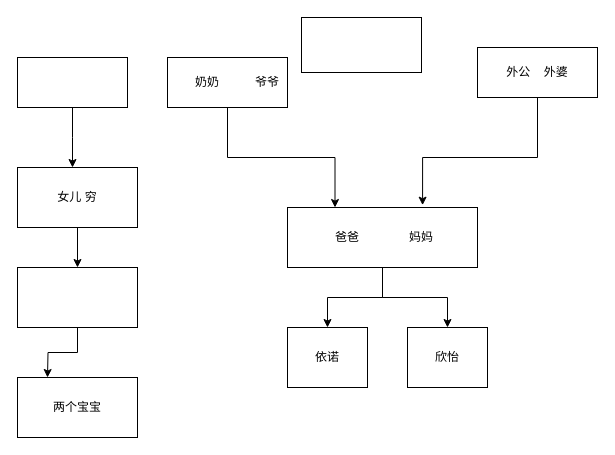
Image size: 615x455. Some labels were removed from this diagram. The centre of each missing label's shape, as x and y in pixels:
"儿子 结婚了 穷" belongs at [77,297].
"奶奶的姐姐" belongs at [72,82].
"小爷爷" belongs at [361,44].
